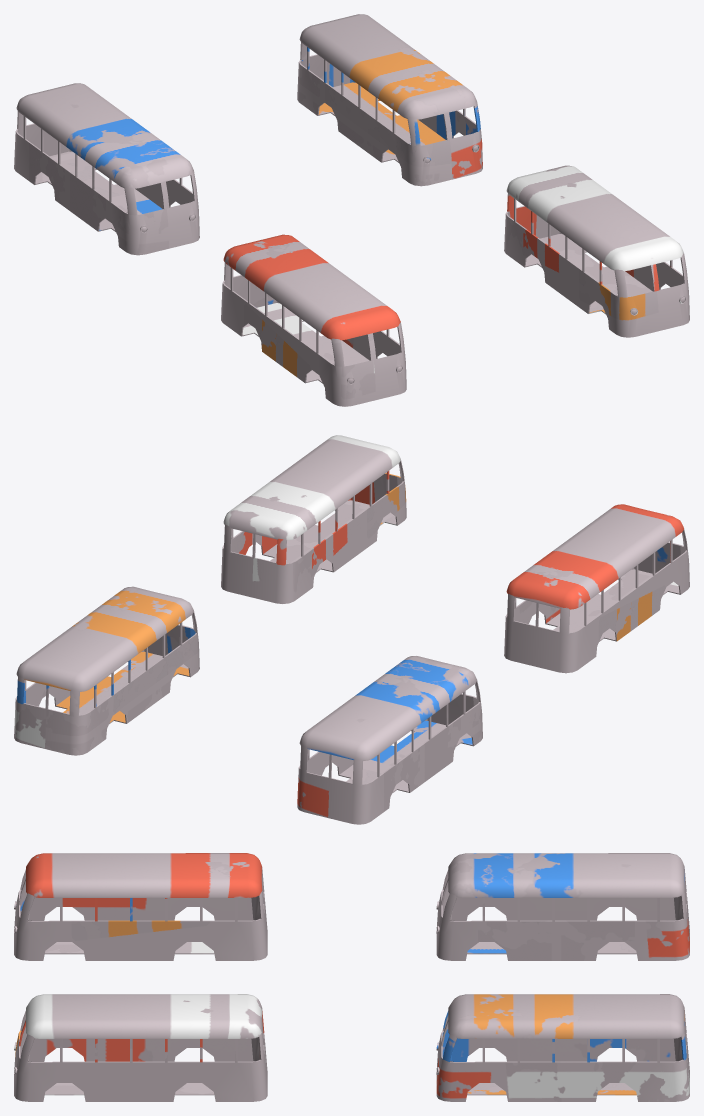
File: Metalon Bus All.fbx
3 views of the same model, one above another, from view 1: azimuth 30°, elevation 25°; view 2: azimuth 150°, elevation 25°; view 3: azimuth 270°, elevation 25° (orthographic). The views are drawn at different scales.
Visible parts, largest first — view 1: Metalon_Bus_Red, Metalon_Bus_Blue, Metalon_Bus_Yellow, Metalon_Bus_Green; view 2: Metalon_Bus_Blue, Metalon_Bus_Yellow, Metalon_Bus_Red, Metalon_Bus_Green; view 3: Metalon_Bus_Green, Metalon_Bus_Red, Metalon_Bus_Yellow, Metalon_Bus_Blue.
Boxes of the visible parts, x1,y1,x2,y2 form: Metalon_Bus_Red: [297, 14, 482, 186]; Metalon_Bus_Blue: [504, 165, 689, 337]; Metalon_Bus_Yellow: [221, 234, 406, 406]; Metalon_Bus_Green: [14, 83, 199, 255]; Metalon_Bus_Blue: [221, 435, 406, 603]; Metalon_Bus_Yellow: [504, 504, 689, 673]; Metalon_Bus_Red: [14, 586, 199, 755]; Metalon_Bus_Green: [297, 656, 482, 824]; Metalon_Bus_Green: [436, 853, 689, 960]; Metalon_Bus_Red: [436, 994, 689, 1101]; Metalon_Bus_Yellow: [14, 853, 267, 960]; Metalon_Bus_Blue: [14, 994, 267, 1101].
Size of the model in its own units: 990 by 200 by 1600.
